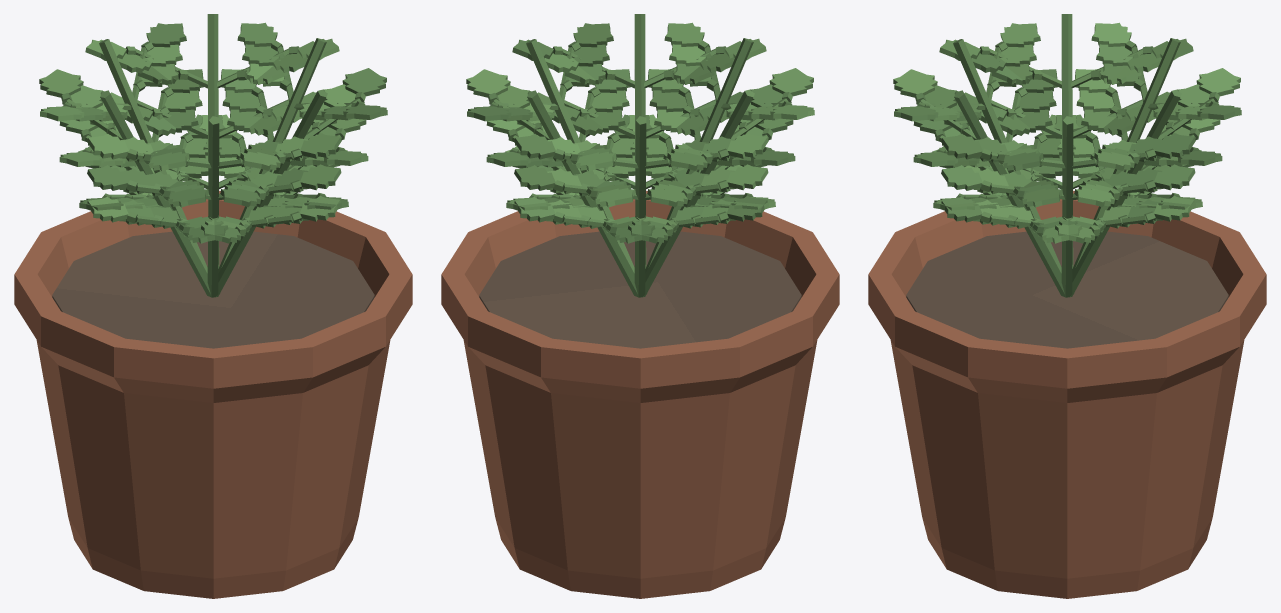
The model's file is parsley.glb.
3 views of the same model, side by side, from view 1: azimuth 30°, elevation 25°; view 2: azimuth 150°, elevation 25°; view 3: azimuth 270°, elevation 25° (orthographic).
Visible parts, largest first — view 1: parsley/review-terra-vessel, parsley/review-rooted-soil, parsley/petiole-044, parsley/petiole-001, parsley/petiole-216, parsley/petiole-130, parsley/petiole-087, parsley/petiole-173, parsley/leaf-036, parsley/leaf-129, parsley/leaf-172, parsley/leaf-251 (+20 smaller); view 2: parsley/review-terra-vessel, parsley/review-rooted-soil, parsley/petiole-216, parsley/petiole-173, parsley/petiole-130, parsley/petiole-044, parsley/petiole-001, parsley/petiole-087, parsley/leaf-208, parsley/leaf-043, parsley/leaf-086, parsley/leaf-165 (+20 smaller); view 3: parsley/review-terra-vessel, parsley/review-rooted-soil, parsley/petiole-130, parsley/petiole-087, parsley/petiole-044, parsley/petiole-216, parsley/petiole-173, parsley/petiole-001, parsley/leaf-122, parsley/leaf-215, parsley/leaf-258, parsley/leaf-079 (+20 smaller).
Part boxes in pixels (x1,y1,x2,y2): parsley/review-terra-vessel: [14, 190, 412, 598]; parsley/review-rooted-soil: [52, 231, 374, 348]; parsley/petiole-044: [207, 116, 219, 297]; parsley/petiole-001: [100, 90, 210, 296]; parsley/petiole-216: [99, 39, 207, 273]; parsley/petiole-130: [216, 38, 326, 296]; parsley/petiole-087: [210, 89, 327, 296]; parsley/petiole-173: [207, 14, 219, 268]; parsley/leaf-036: [39, 69, 83, 97]; parsley/leaf-129: [342, 68, 386, 96]; parsley/leaf-172: [237, 22, 277, 46]; parsley/leaf-251: [146, 23, 186, 47]; parsley/review-terra-vessel: [441, 190, 839, 598]; parsley/review-rooted-soil: [479, 231, 801, 348]; parsley/petiole-216: [634, 116, 646, 297]; parsley/petiole-173: [527, 90, 637, 296]; parsley/petiole-130: [526, 39, 634, 273]; parsley/petiole-044: [643, 38, 753, 296]; parsley/petiole-001: [637, 89, 754, 296]; parsley/petiole-087: [634, 14, 646, 268]; parsley/leaf-208: [466, 69, 510, 97]; parsley/leaf-043: [769, 68, 813, 96]; parsley/leaf-086: [664, 22, 704, 46]; parsley/leaf-165: [573, 23, 613, 47]; parsley/review-terra-vessel: [868, 190, 1266, 598]; parsley/review-rooted-soil: [906, 231, 1228, 348]; parsley/petiole-130: [1061, 116, 1073, 297]; parsley/petiole-087: [954, 90, 1064, 296]; parsley/petiole-044: [953, 39, 1061, 273]; parsley/petiole-216: [1070, 38, 1180, 296]; parsley/petiole-173: [1064, 89, 1181, 296]; parsley/petiole-001: [1061, 14, 1073, 268]; parsley/leaf-122: [893, 69, 937, 97]; parsley/leaf-215: [1196, 68, 1240, 96]; parsley/leaf-258: [1091, 22, 1131, 46]; parsley/leaf-079: [1000, 23, 1040, 47].
Bounding box in the file's own units: 0.19 × 0.2502 × 0.19.
Materials: 3 (3 with a texture image).
